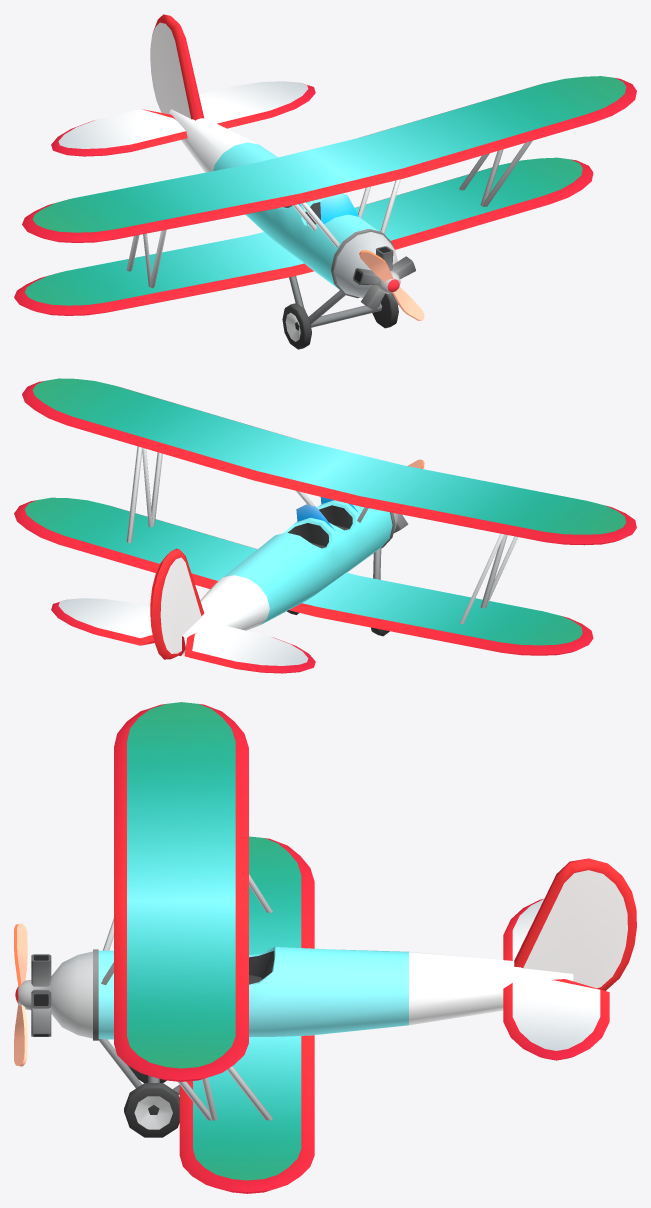
3 views of the same model, one above another, from view 1: azimuth 30°, elevation 25°; view 2: azimuth 150°, elevation 25°; view 3: azimuth 270°, elevation 25° (orthographic). The views are drawn at different scales.
Visible parts, largest first — view 1: Plane_04, Plane_propeller_01; view 2: Plane_04; view 3: Plane_04, Plane_propeller_01.
Boxes of the visible parts, x1,y1,x2,y2 form: Plane_04: (14,14,636,349); Plane_propeller_01: (359,250,424,320); Plane_04: (14,378,636,673); Plane_04: (31,702,636,1193); Plane_propeller_01: (14,923,50,1066).
Bounding box in the file's own units: 12.28 × 3.79 × 8.55.
1 material, 1 textured.
